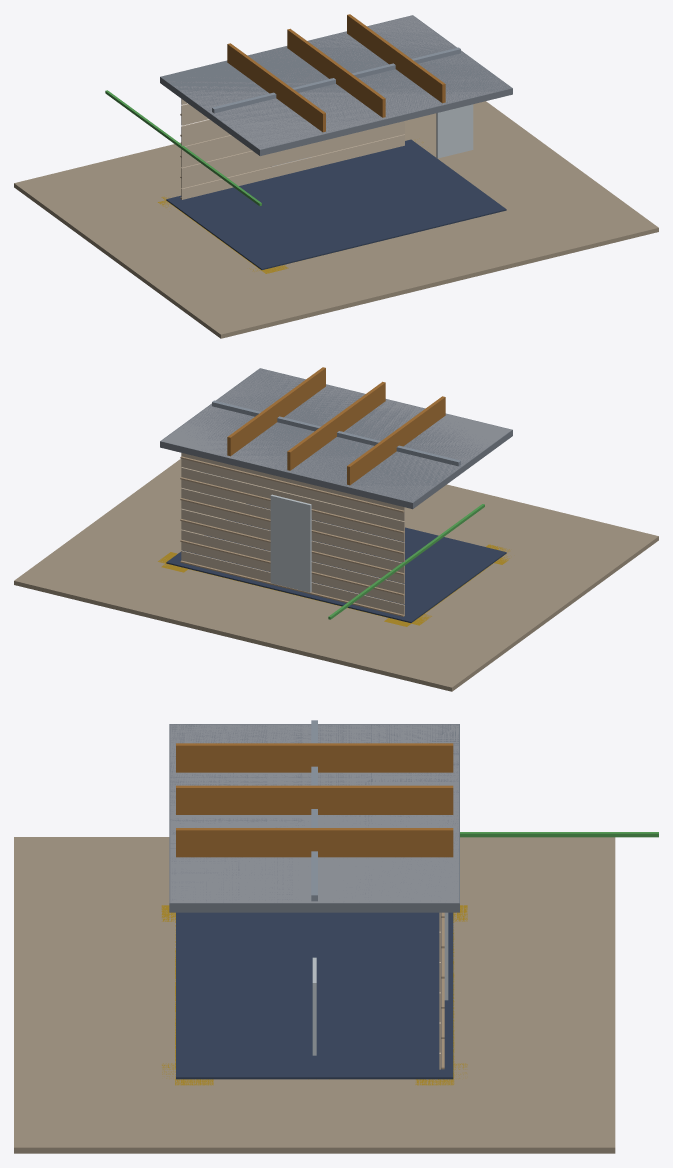
The model's file is stage_09_roof_structure.glb.
The picture shows the model from 3 angles, top to bottom: view 1: azimuth 30°, elevation 25°; view 2: azimuth 150°, elevation 25°; view 3: azimuth 270°, elevation 25°; orthographic projection. The views are drawn at different scales.
Parts seen in each view (by area): view 1: world; view 2: world; view 3: world.
Part boxes in pixels (bbox=[...]): world: bbox=[14, 14, 658, 338]; world: bbox=[14, 367, 658, 691]; world: bbox=[14, 720, 658, 1153].
Size of the model in its own units: 11 by 4.2 by 9.65.
